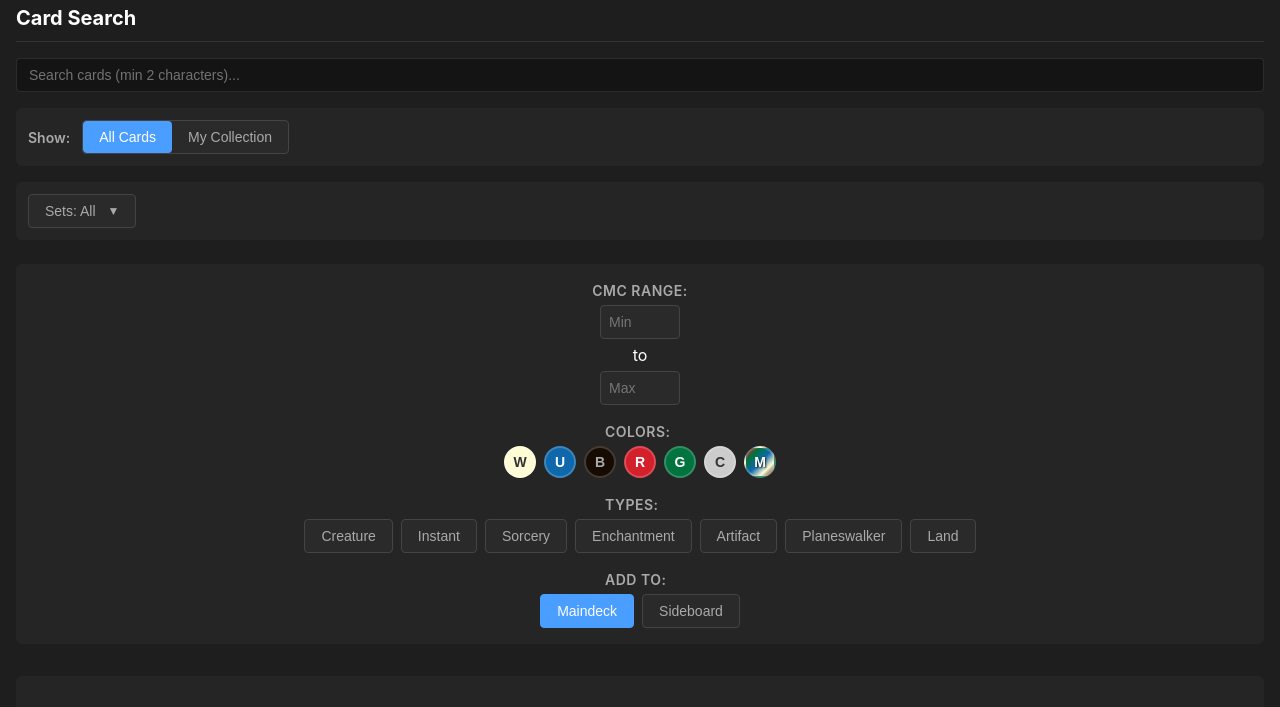
Scenario: CardSearch Component › Constructed Mode › should display owned quantity for cards in constructed mode
Type "test" into the field with placeholder "Search cards (min 2 characters)...".
click(640, 75); type("test")  # box [16, 58, 1264, 92]
(page scrolled)
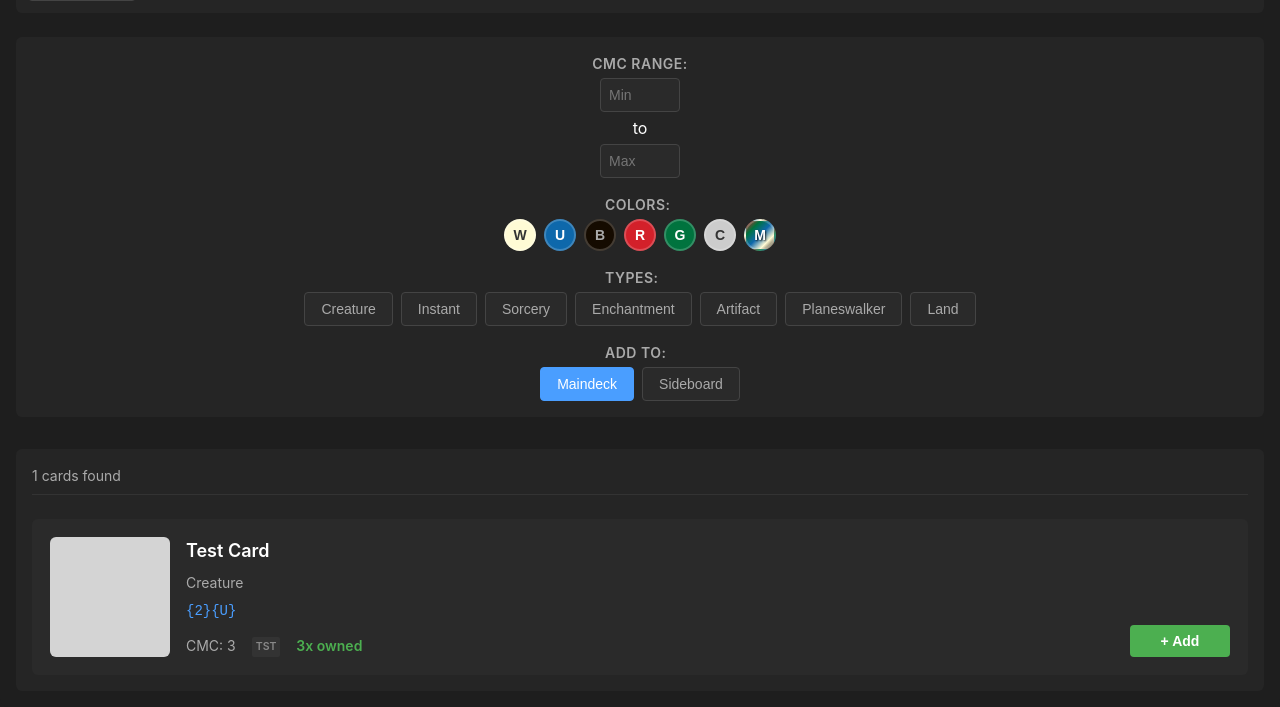
Check: the text "3x owned" is shown, box [296, 635, 362, 657]
